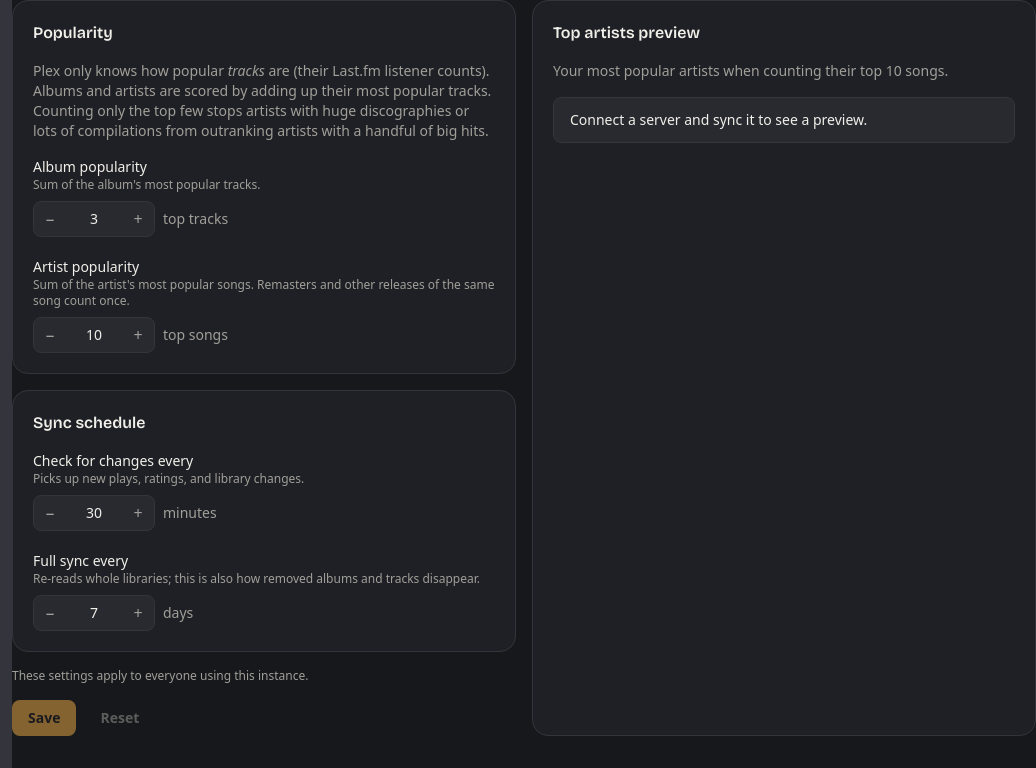
it: LibrarySettingsPage › shows the current values and only allows saving valid changes
The width and height of the screenshot is (1036, 768).
Expected: the number field named "Artist popularity" holds "10", [66,318,122,352]
Expected: the button "Save" is disabled, [12,700,76,736]
Click the button named "Increase Artist popularity".
click(138, 335)  # box [122,318,154,352]
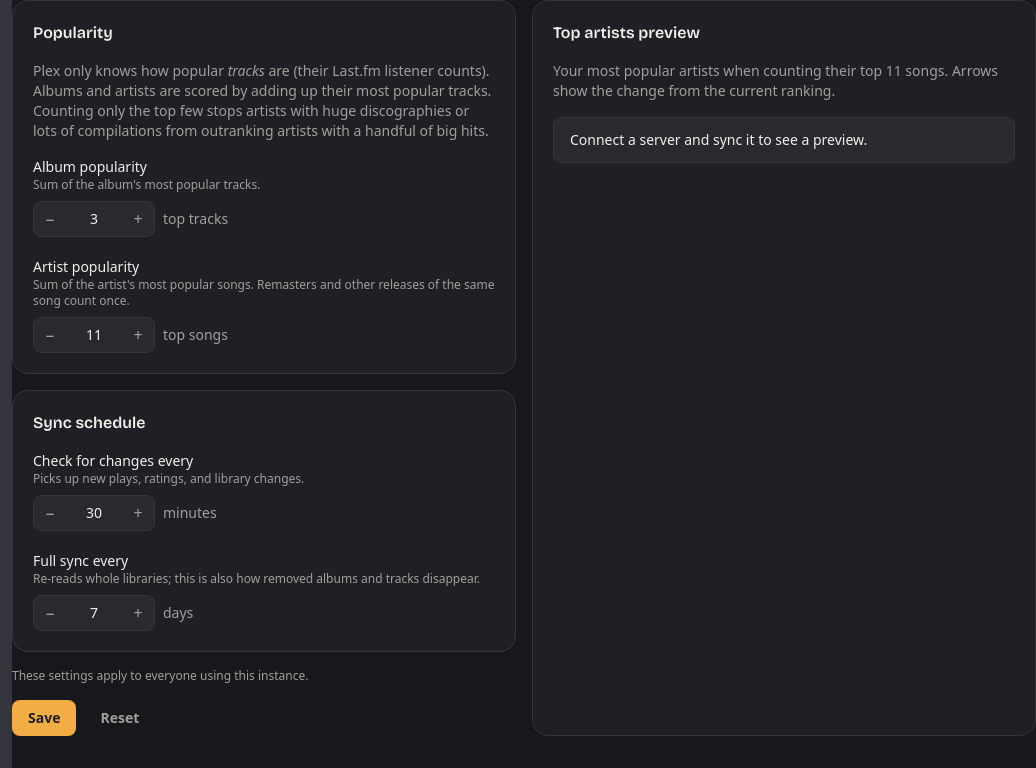
Now the number field named "Artist popularity" holds "11"
Now the button "Save" is enabled, box [12,700,76,736]
Replace the text in the number field named "Artist popularity" with "5" at (94, 335), box [66,318,122,352]
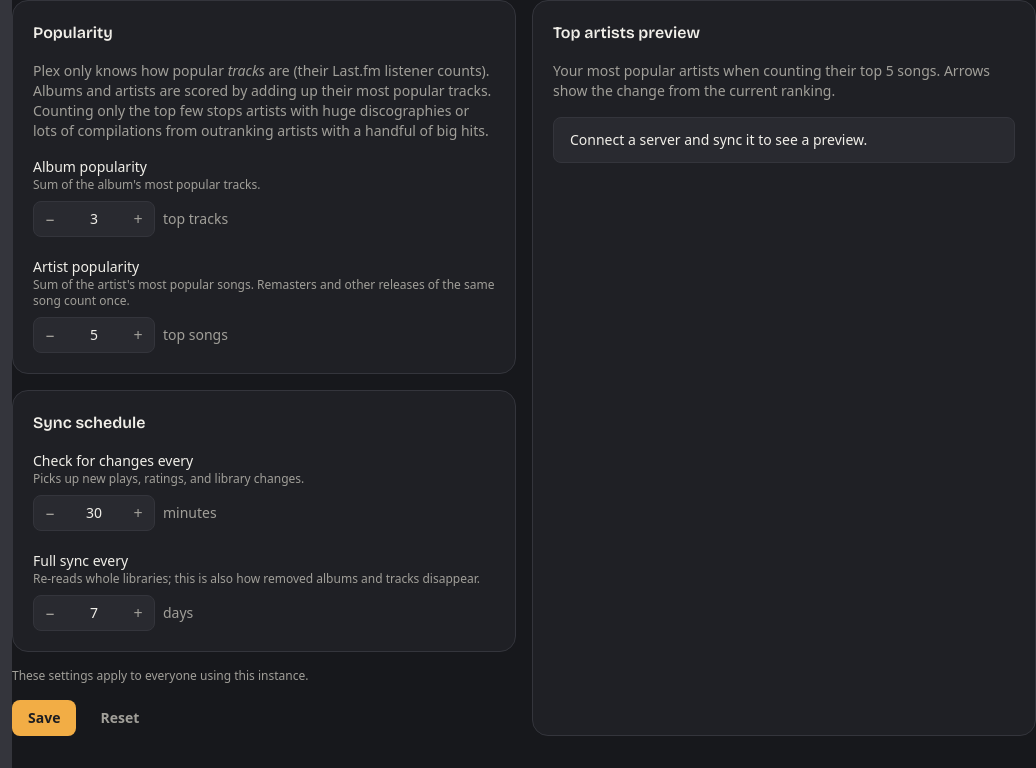
Now the button "Save" is enabled, box [12,700,76,736]
Replace the text in the number field named "Artist popularity" with "0" at (94, 335), box [66,318,122,352]
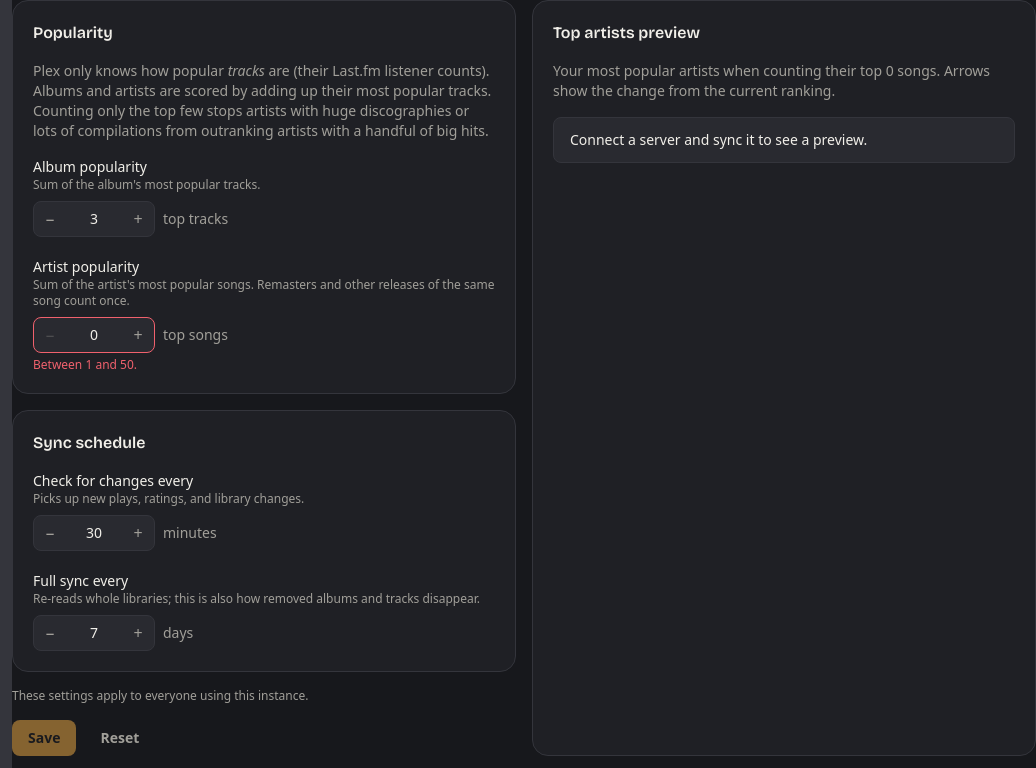
Now the button "Save" is disabled, box [12,720,76,756]
Now the text "Between 1 and 50." is shown, box [33,356,137,373]
